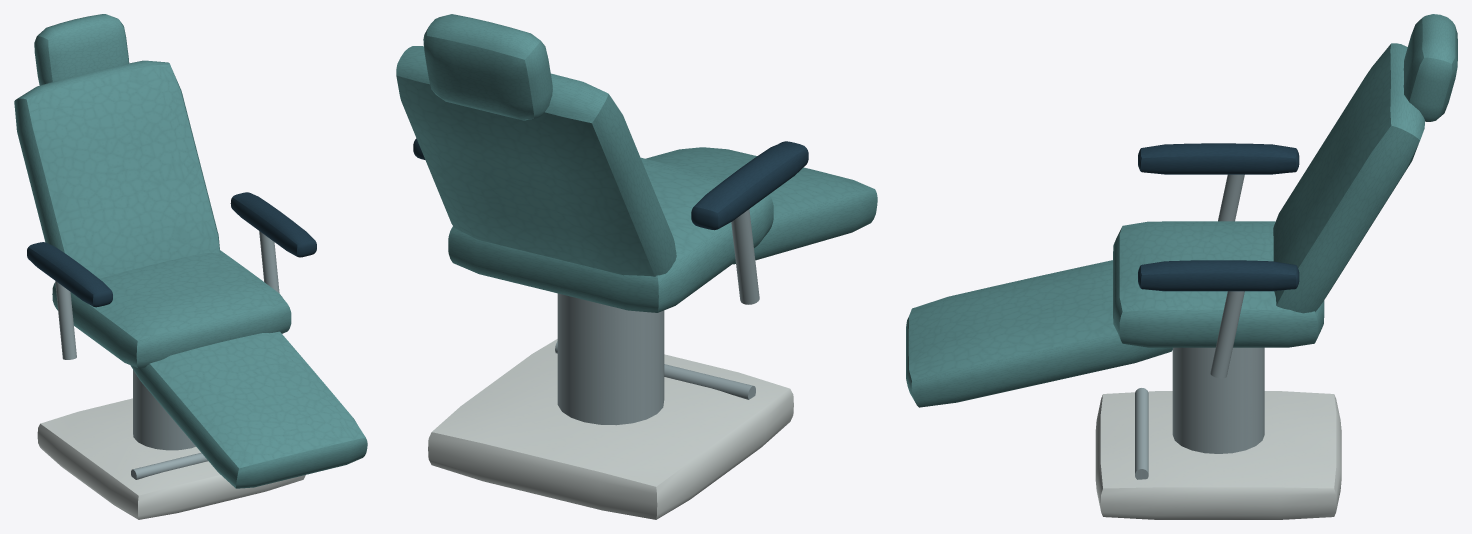
Rendered from dental-chair.glb.
3 renders of one model, left to right at view 1: azimuth 30°, elevation 25°; view 2: azimuth 150°, elevation 25°; view 3: azimuth 270°, elevation 25°, orthographic. The views are drawn at different scales.
Visible parts, largest first — view 1: dental-chair; view 2: dental-chair; view 3: dental-chair.
Part boxes in pixels (bbox=[...]): dental-chair: bbox=[14, 14, 367, 519]; dental-chair: bbox=[396, 14, 877, 519]; dental-chair: bbox=[906, 14, 1457, 519].
Size of the model in its own units: 0.805 by 1.29 by 1.44.
11 materials, 11 textured.
